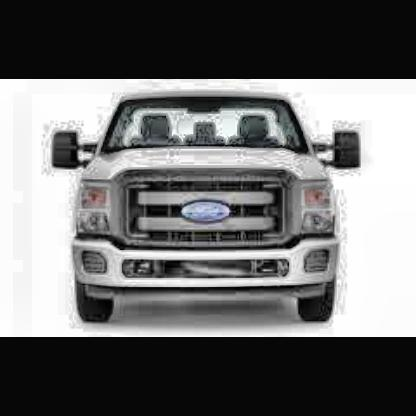Ford F-450 Super Duty Crew Cab 2012: (52, 88, 367, 328)
